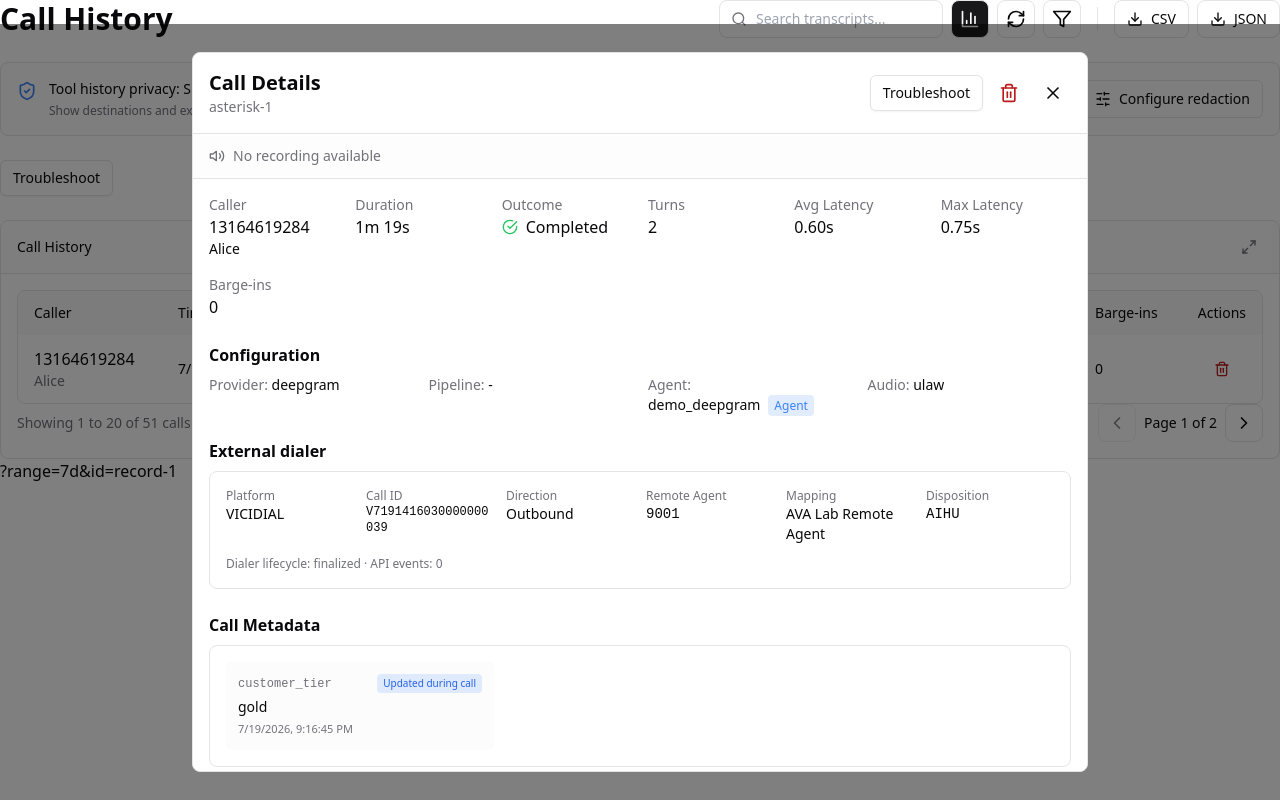
Test: CallHistoryPage deep links › removes the deep-link id when closing so the modal stays closed
Click the button named "Close call details": x=1053, y=93 [1035,75,1071,111]
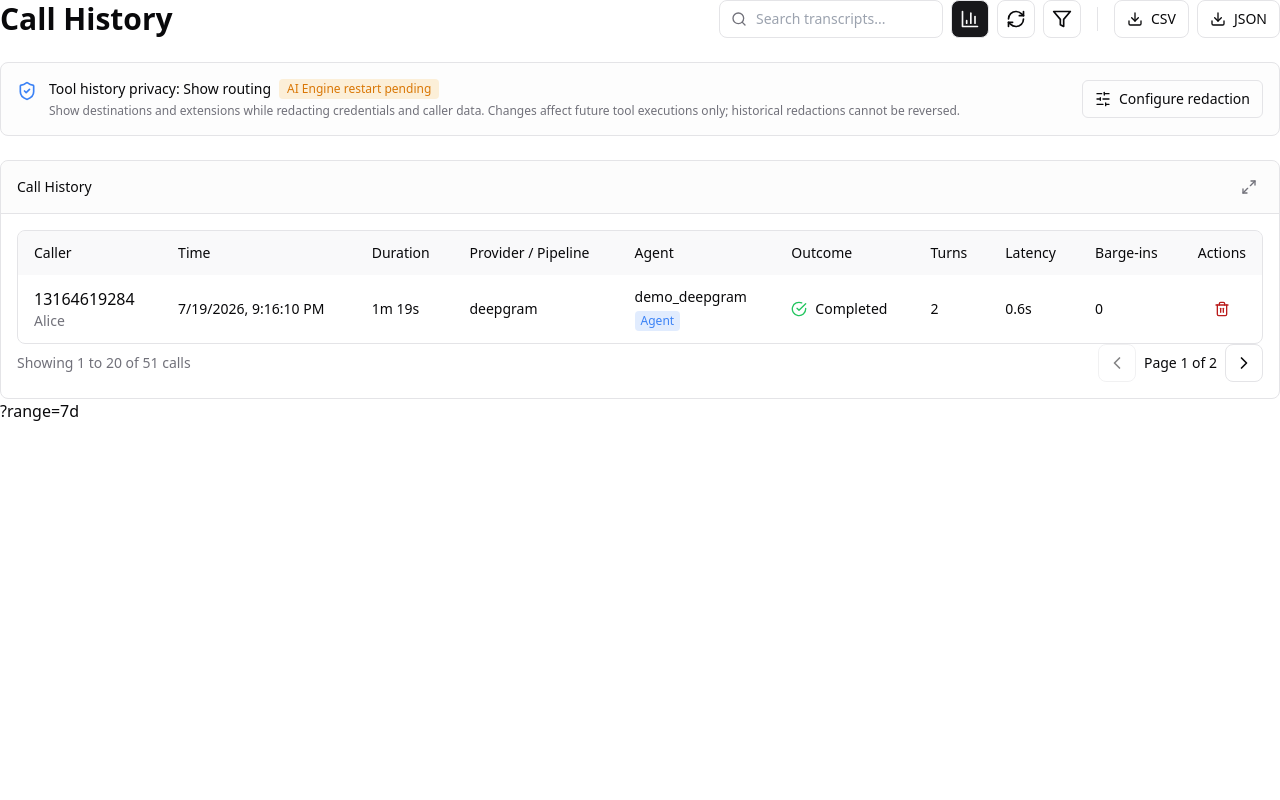
expect the heading "Call Details" is gone: met
expect the text with test id "location-search" reads "?range=7d": met, box [0,400,79,422]
expect the text with test id "location-search" no longer shows "id=record-1": met, box [0,400,79,422]
